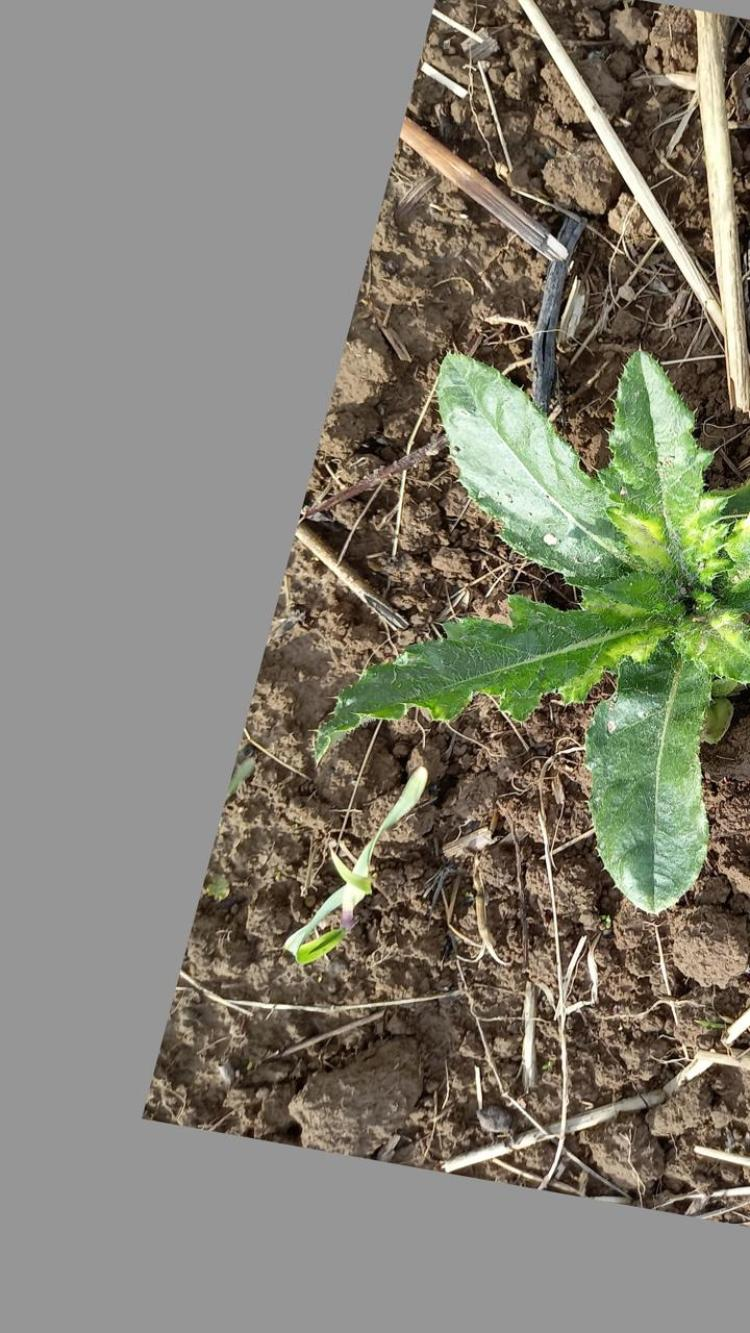bodyak: (291, 339, 750, 918)
